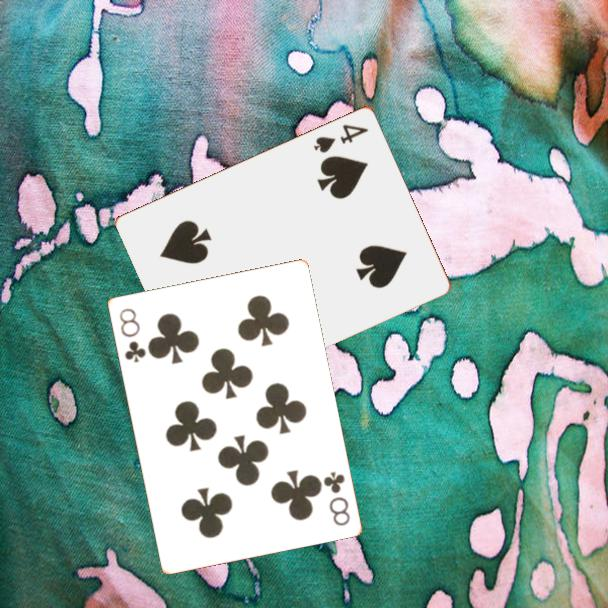c08: (116, 304, 149, 365), (320, 468, 352, 529)
s04: (310, 120, 371, 156)
